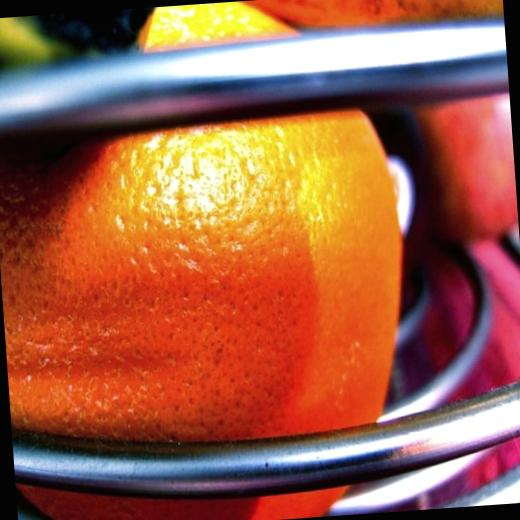Grape: (0, 0, 418, 520)
